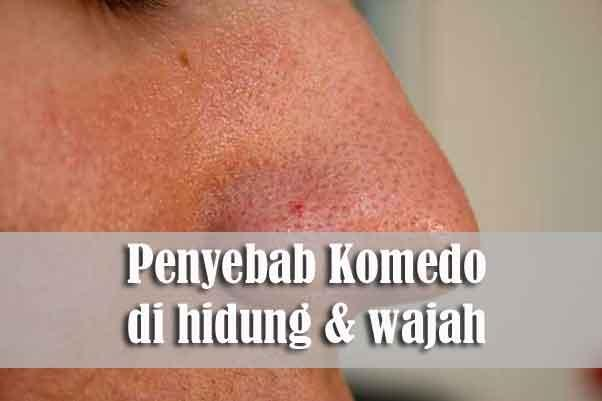Acne: (213, 136, 479, 233)
